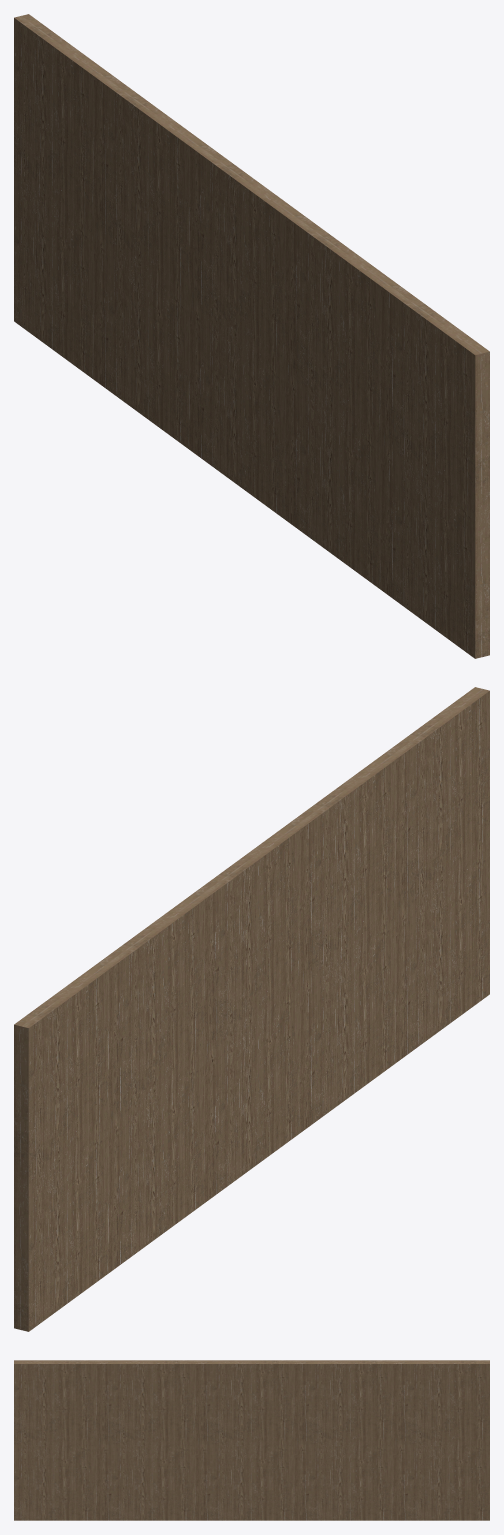
File: souplongwall024.glb
3 views of the same model, one above another, from view 1: azimuth 30°, elevation 25°; view 2: azimuth 150°, elevation 25°; view 3: azimuth 270°, elevation 25° (orthographic). The views are drawn at different scales.
Parts seen in each view (by area): view 1: souplongwall024_high_1; view 2: souplongwall024_high_1; view 3: souplongwall024_high_1.
Part boxes in pixels (left/top/right/bottom): souplongwall024_high_1: left=14, top=14, right=489, bottom=658; souplongwall024_high_1: left=14, top=687, right=489, bottom=1331; souplongwall024_high_1: left=14, top=1360, right=489, bottom=1520.
Bounding box in the file's own units: 0.1504 × 2.95 × 8.11.
1 material, 1 textured.
